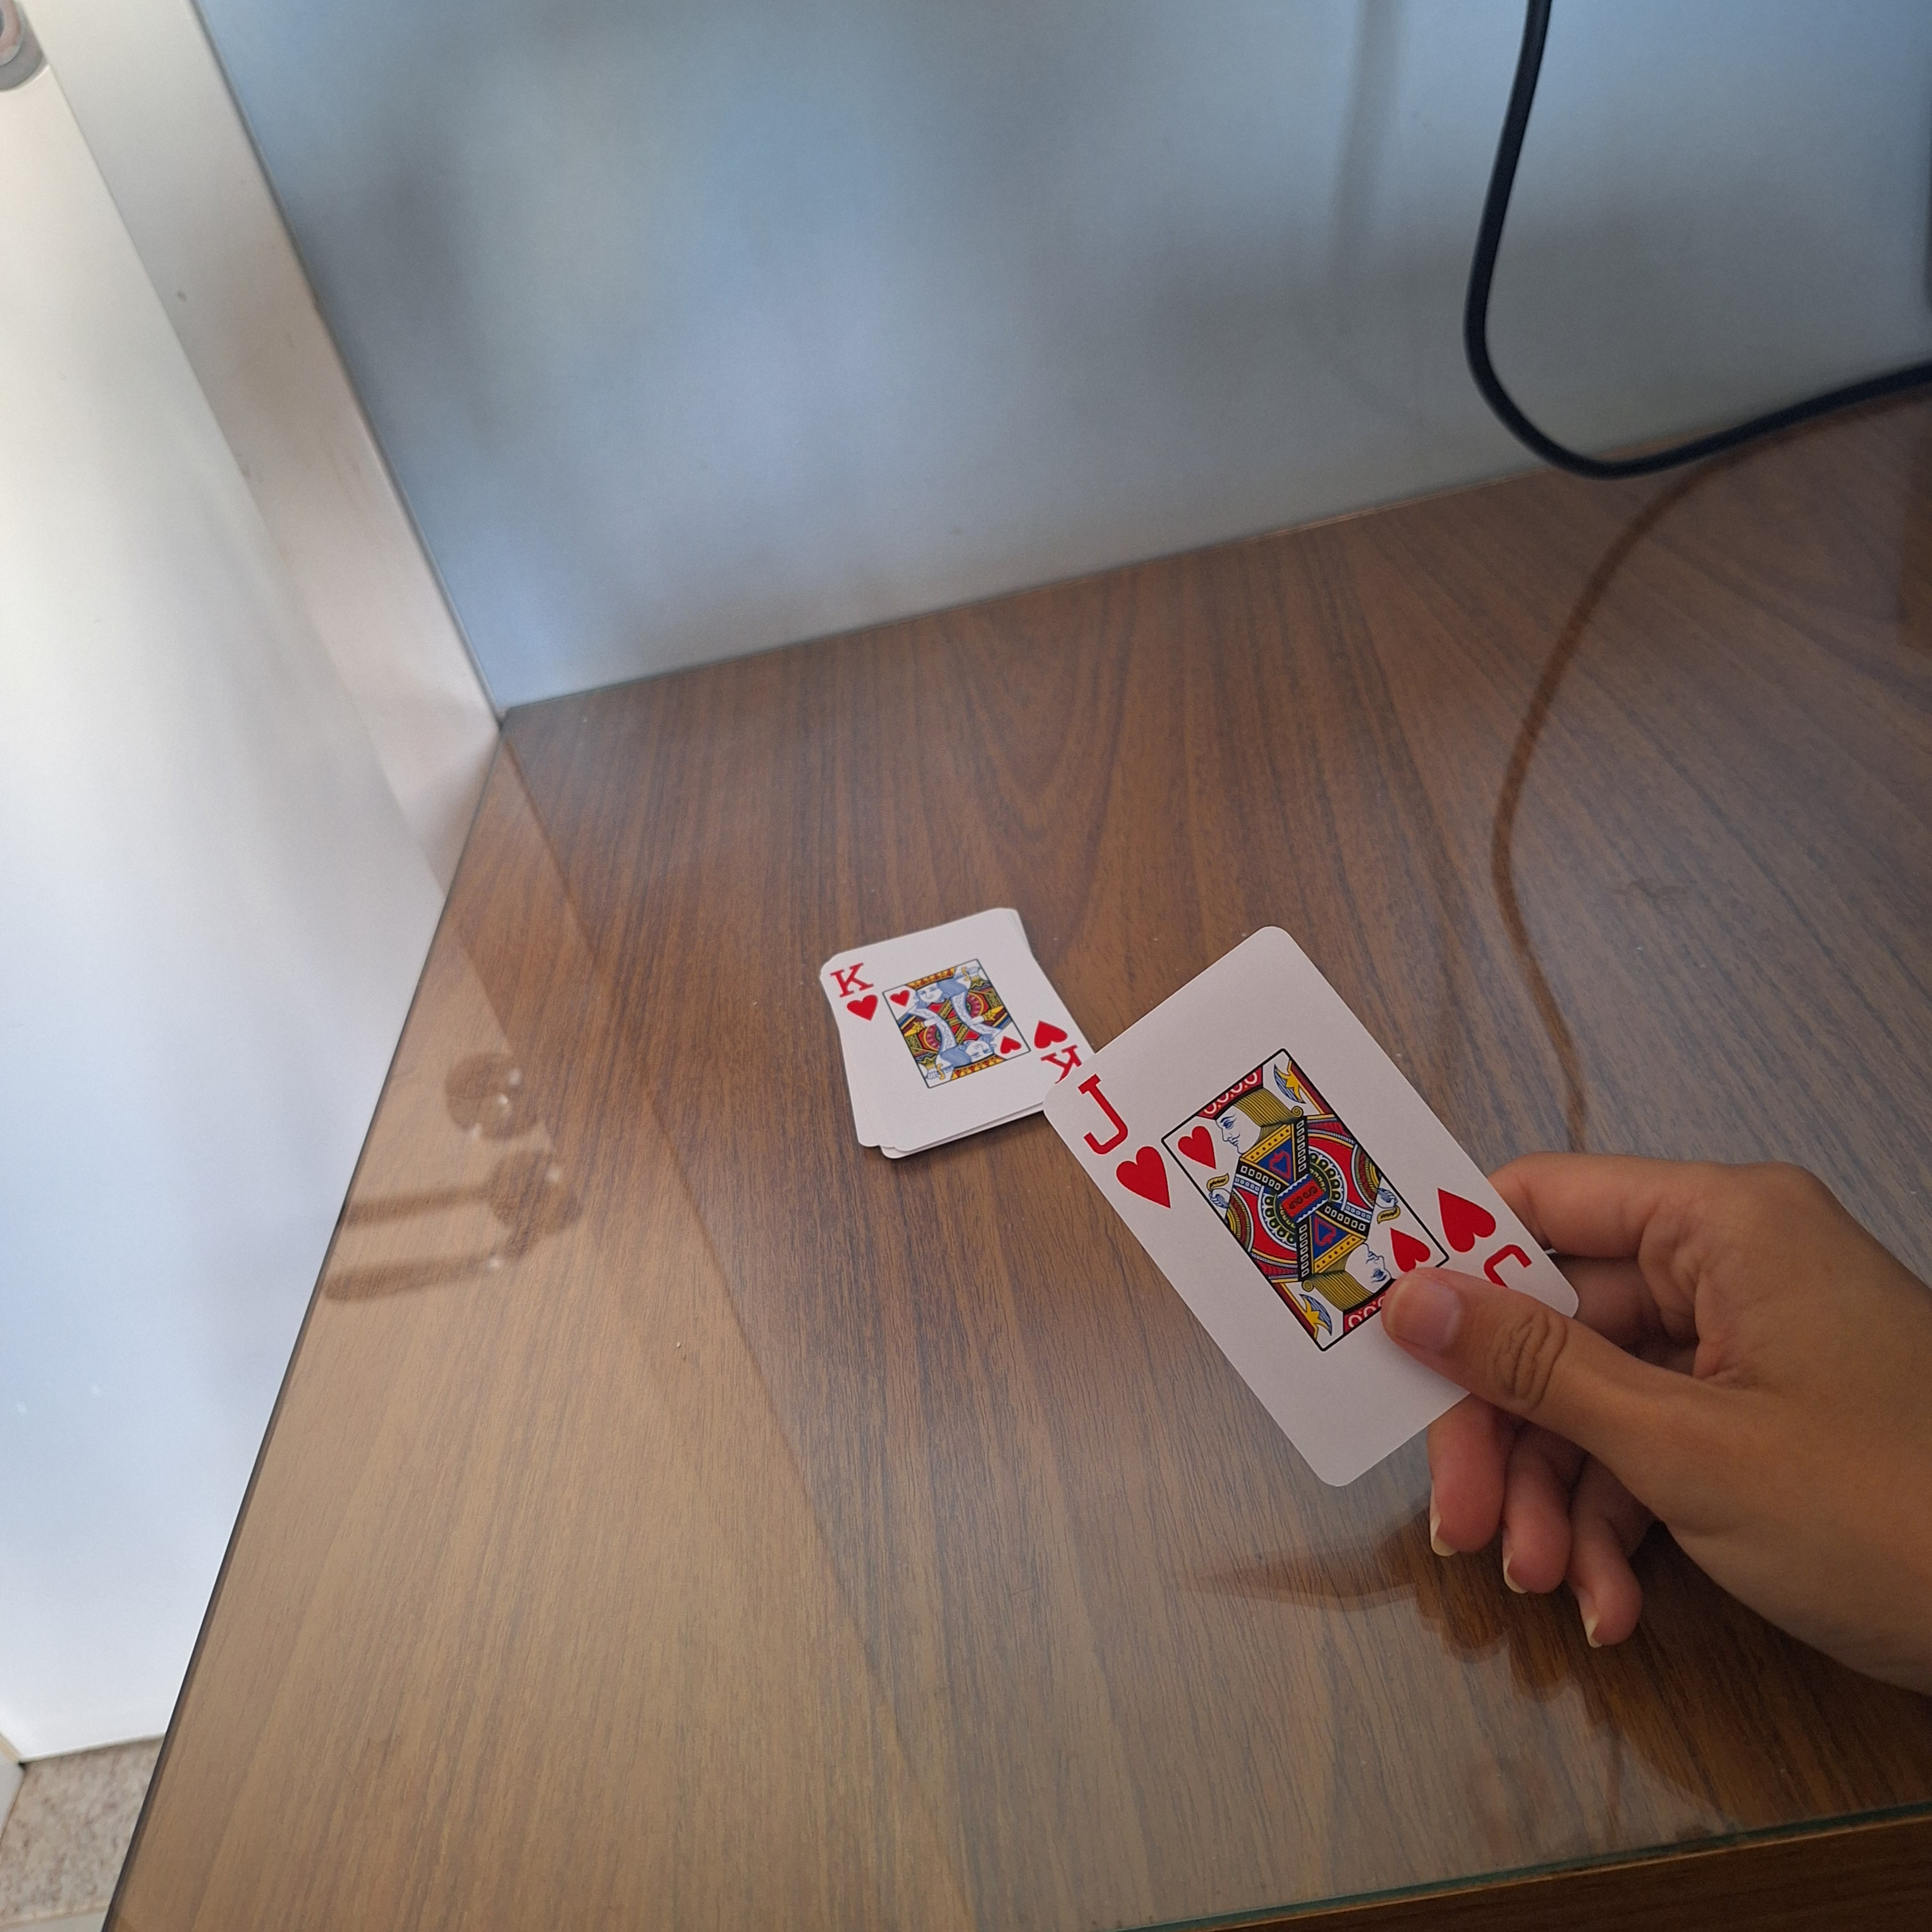JC: (1070, 1070, 1171, 1214)
KC: (1028, 1016, 1083, 1085), (826, 957, 883, 1023)
